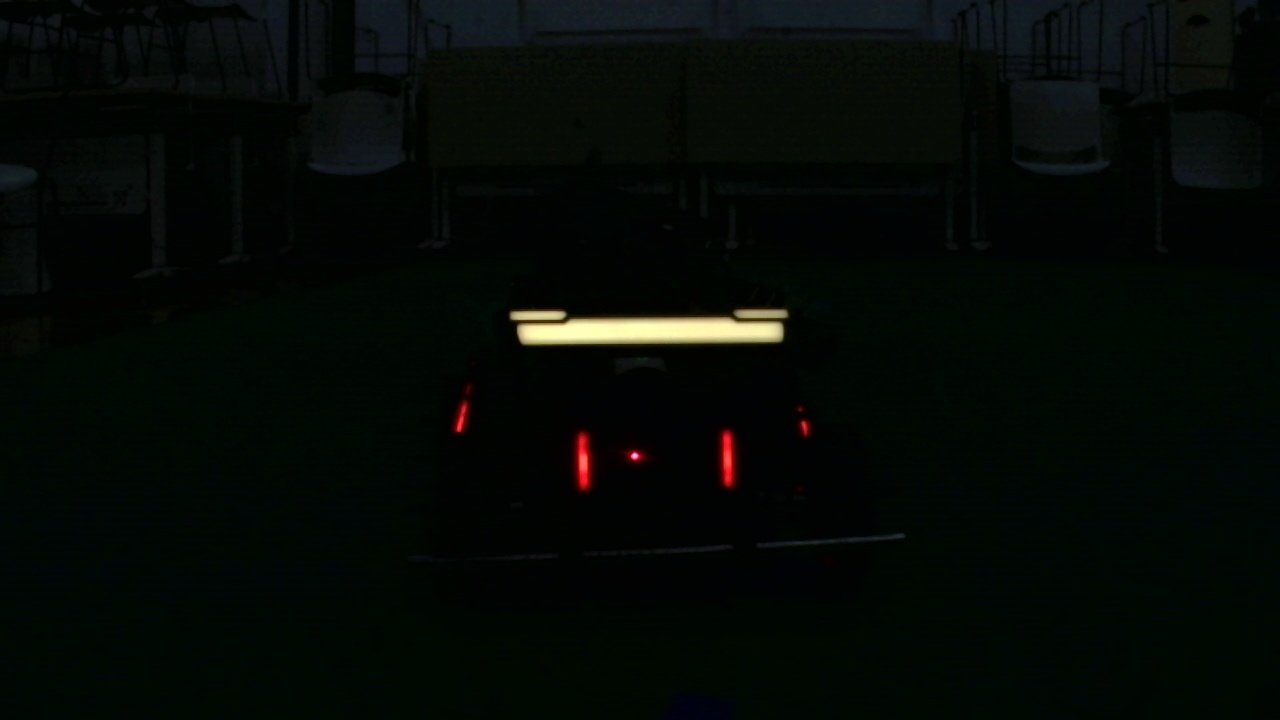lamp: (711, 431, 738, 487), (574, 427, 591, 489), (450, 400, 471, 431)
notpair1: (458, 395, 595, 488)
pair1: (575, 426, 739, 502)
